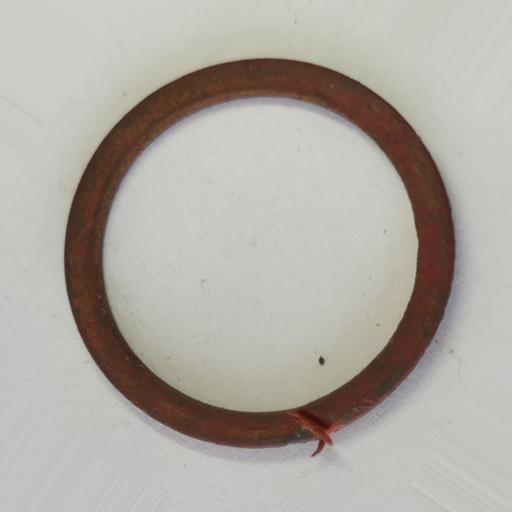defect: (288, 410, 333, 456)
